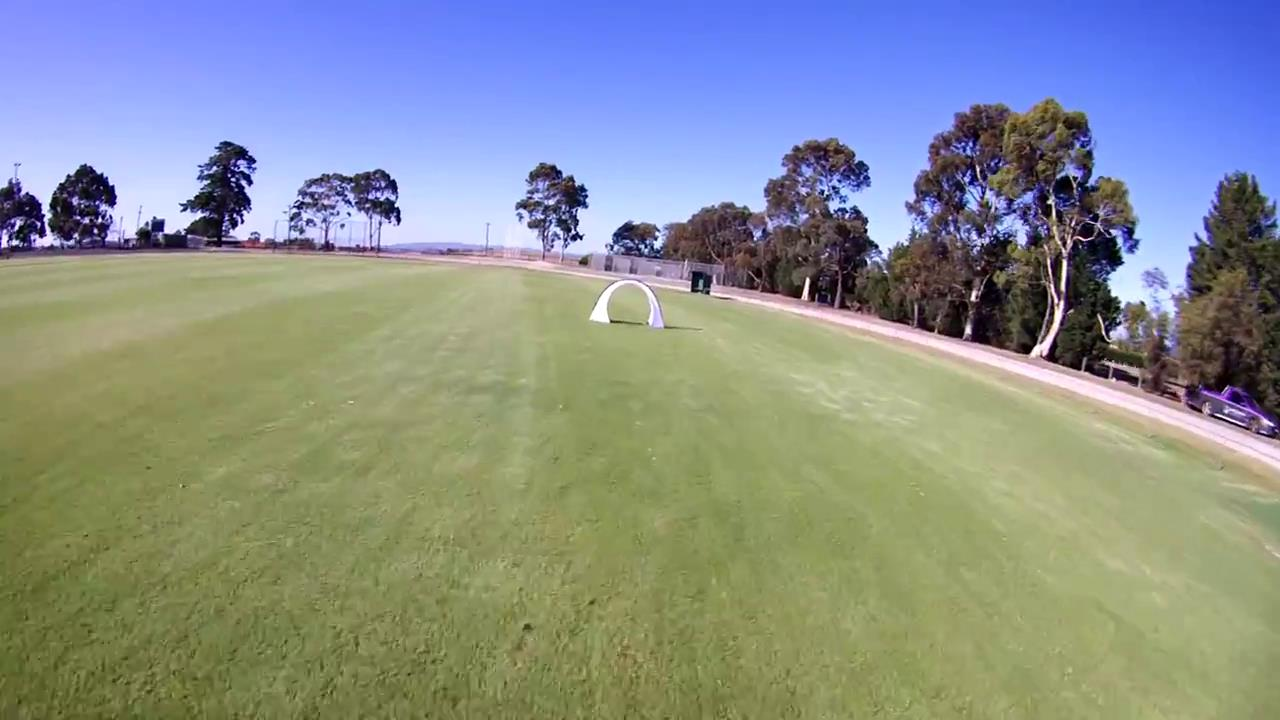gate: (588, 279, 666, 329)
